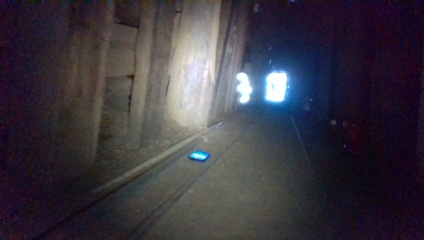cellphone: (188, 149, 209, 162)
drill: (326, 116, 360, 157)
fire_extinguisher: (299, 95, 316, 128)
manikin: (236, 59, 254, 114)
